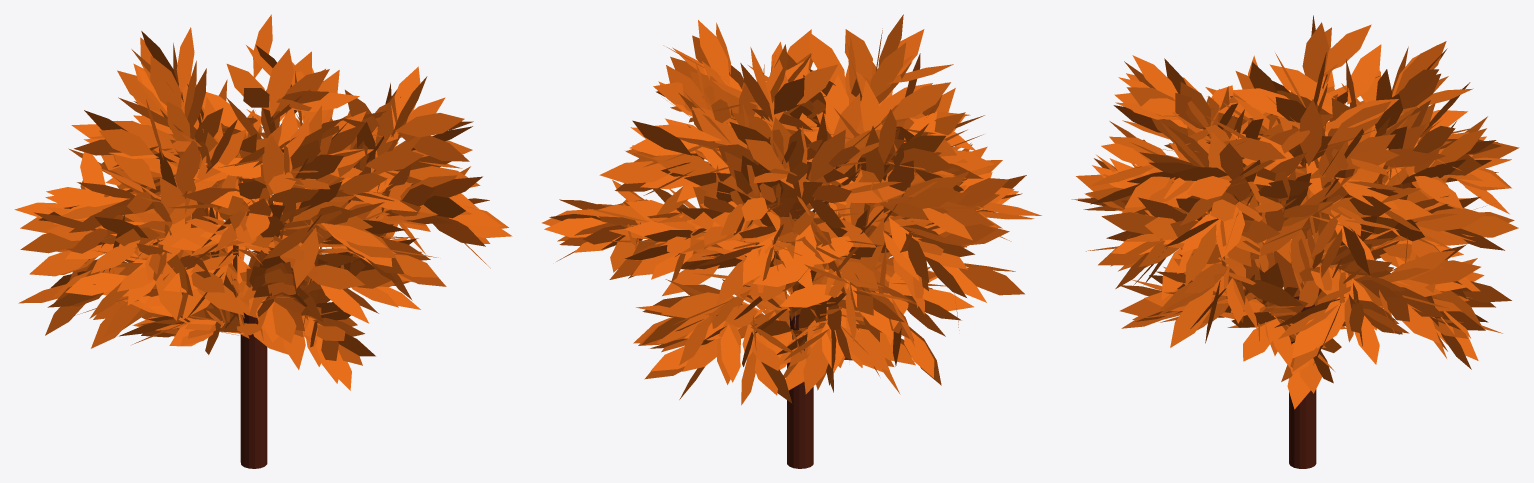
The model's file is LOD2_arvore fall.fbx.
3 views of the same model, side by side, from view 1: azimuth 30°, elevation 25°; view 2: azimuth 150°, elevation 25°; view 3: azimuth 270°, elevation 25° (orthographic). The views are drawn at different scales.
Parts seen in each view (by area): view 1: LOD2_arvore fall; view 2: LOD2_arvore fall; view 3: LOD2_arvore fall.
Boxes of the visible parts, bbox=[...] form: LOD2_arvore fall: bbox=[14, 14, 512, 468]; LOD2_arvore fall: bbox=[542, 14, 1041, 468]; LOD2_arvore fall: bbox=[1071, 15, 1519, 468].
Bounding box in the file's own units: 1636 × 1448 × 1455.
